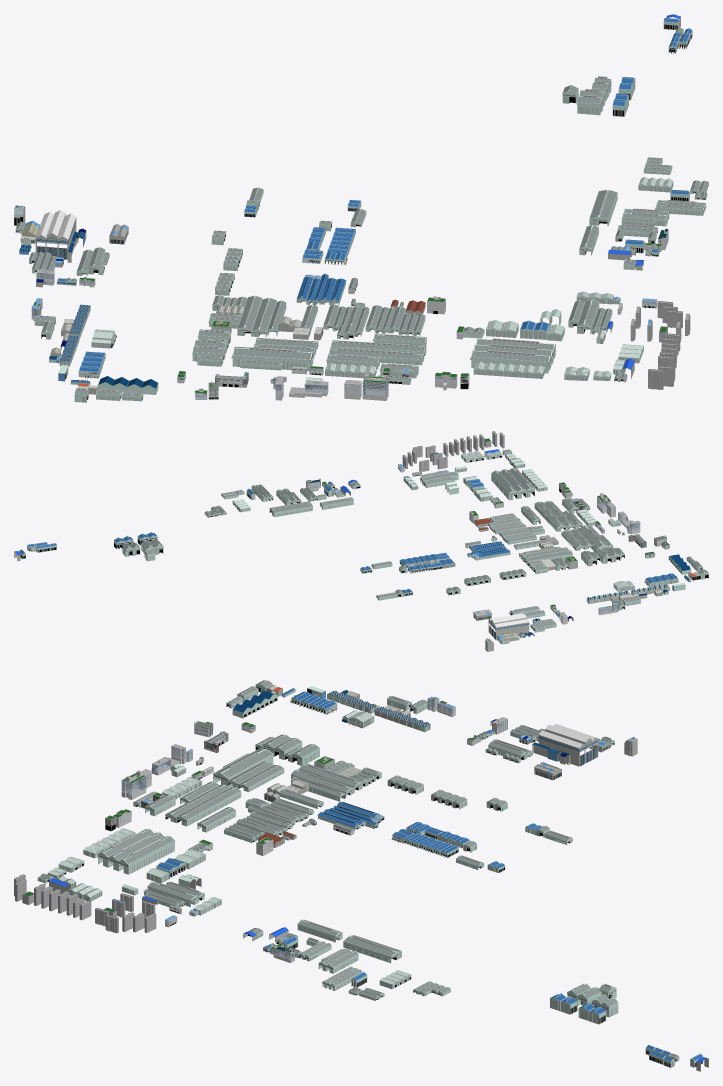
File: Okpo_Building.glb
The picture shows the model from 3 angles, top to bottom: view 1: azimuth 30°, elevation 25°; view 2: azimuth 150°, elevation 25°; view 3: azimuth 270°, elevation 25°; orthographic projection. The views are drawn at different scales.
Parts seen in each view (by area): view 1: Okpo_Building.315, Okpo_Building.001, Okpo_Building.066, Okpo_Building.004, Okpo_Building.003, Okpo_Building.170, Okpo_Building.266, Okpo_Building.018, Okpo_Building.019; view 2: Okpo_Building.315, Okpo_Building.170, Okpo_Building.318, Okpo_Building.003, Okpo_Building.001; view 3: Okpo_Building.315, Okpo_Building.318, Okpo_Building.003, Okpo_Building.001, Okpo_Building.170.
Boxes of the visible parts, x1=… form: Okpo_Building.315: x1=35, y1=210, x2=86, y2=262; Okpo_Building.001: x1=231, y1=346, x2=313, y2=370; Okpo_Building.066: x1=469, y1=350, x2=551, y2=373; Okpo_Building.004: x1=329, y1=347, x2=424, y2=365; Okpo_Building.003: x1=330, y1=340, x2=426, y2=355; Okpo_Building.170: x1=589, y1=189, x2=617, y2=226; Okpo_Building.266: x1=362, y1=373, x2=388, y2=400; Okpo_Building.018: x1=237, y1=295, x2=262, y2=336; Okpo_Building.019: x1=251, y1=297, x2=276, y2=337; Okpo_Building.315: x1=488, y1=613, x2=529, y2=640; Okpo_Building.170: x1=269, y1=501, x2=312, y2=517; Okpo_Building.318: x1=491, y1=470, x2=517, y2=500; Okpo_Building.003: x1=534, y1=501, x2=565, y2=531; Okpo_Building.001: x1=578, y1=525, x2=610, y2=551; Okpo_Building.315: x1=532, y1=724, x2=598, y2=766; Okpo_Building.318: x1=118, y1=835, x2=175, y2=874; Okpo_Building.003: x1=176, y1=787, x2=241, y2=826; Okpo_Building.001: x1=213, y1=748, x2=273, y2=787; Okpo_Building.170: x1=343, y1=935, x2=401, y2=963.
Bounding box in the file's own units: 3145 × 93.01 × 2416.
Materials: 25 (25 with a texture image).
